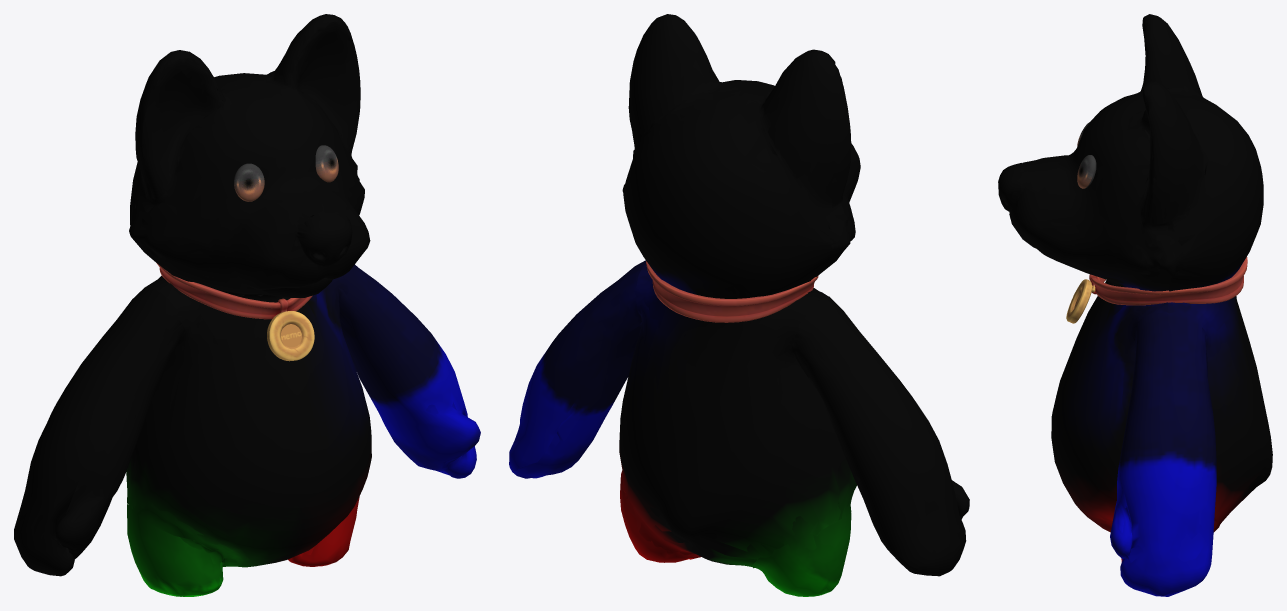
File: nemo_shell_v2.glb
3 views of the same model, side by side, from view 1: azimuth 30°, elevation 25°; view 2: azimuth 150°, elevation 25°; view 3: azimuth 270°, elevation 25° (orthographic). The views are drawn at different scales.
Parts seen in each view (by area): view 1: BoundedShellGroom, Body, Collar, Nemo_Normal; view 2: BoundedShellGroom, Body, Collar; view 3: BoundedShellGroom, Body, Collar, Nemo_Normal.
Part boxes in pixels (box(x1,y1,x2,y2)): BoundedShellGroom: box(14, 14, 480, 596); Body: box(20, 21, 471, 595); Collar: box(156, 263, 314, 361); Nemo_Normal: box(234, 145, 338, 201); BoundedShellGroom: box(509, 14, 969, 596); Body: box(513, 56, 964, 577); Collar: box(646, 261, 818, 322); BoundedShellGroom: box(998, 14, 1272, 596); Body: box(1002, 20, 1265, 595); Collar: box(1066, 257, 1247, 323); Nemo_Normal: box(1077, 122, 1096, 188).
Bounding box in the file's own units: 2.3 × 2.67 × 1.34.
4 materials, 4 textured.
